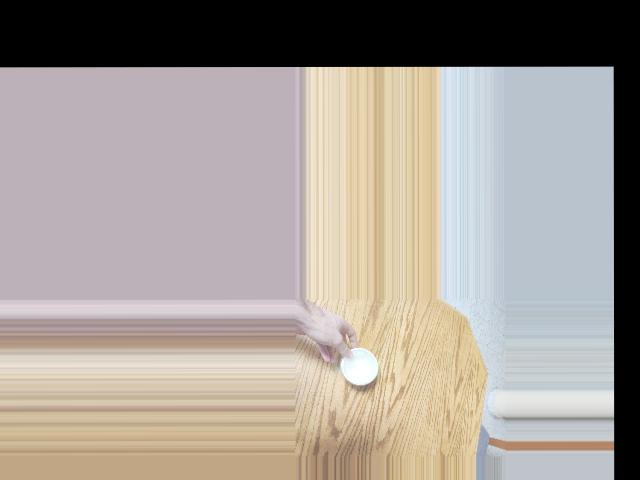cotage: (337, 344, 377, 386)
